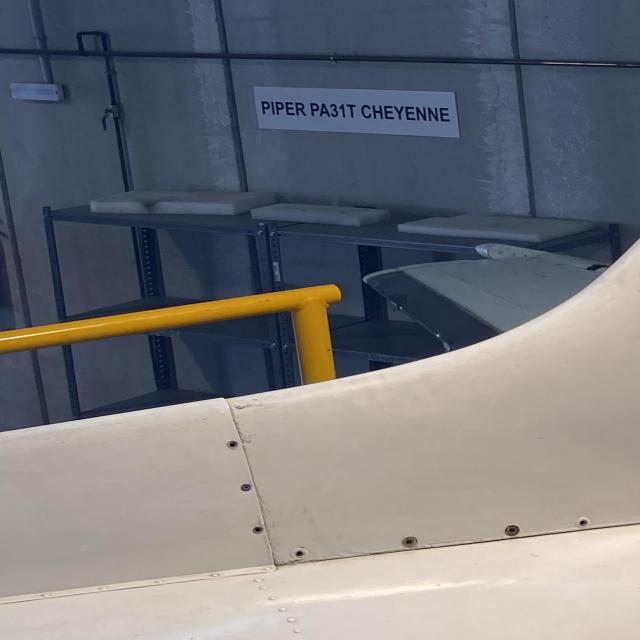Missing-head: (575, 516, 593, 531), (290, 547, 308, 560), (505, 524, 520, 538), (402, 537, 418, 549), (226, 440, 238, 450), (253, 525, 263, 535)
